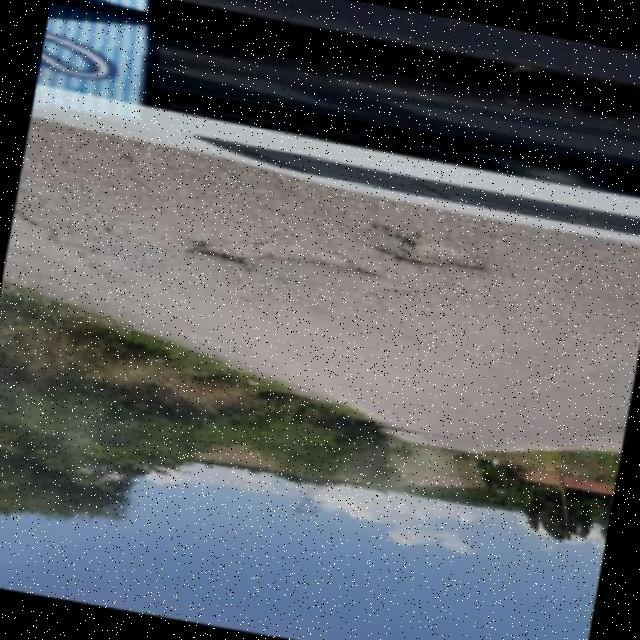Pothole: (184, 237, 379, 277), (371, 228, 486, 272)
